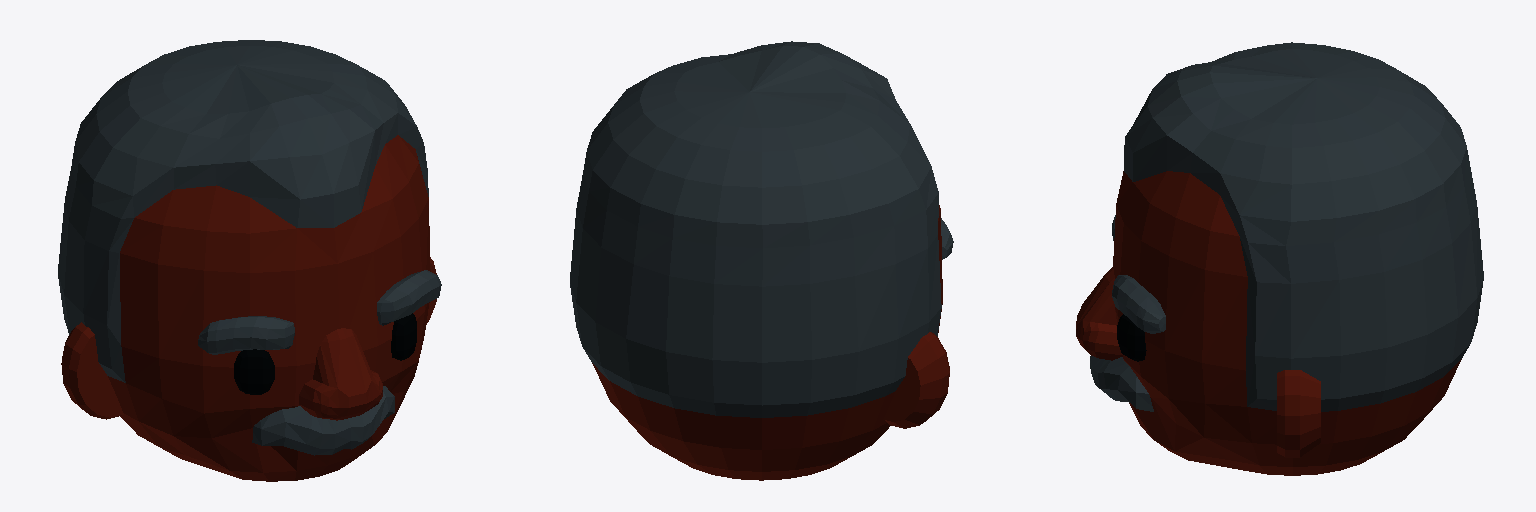
Rendered from character_policeman_headB.obj.
The picture shows the model from 3 angles: view 1: azimuth 30°, elevation 25°; view 2: azimuth 150°, elevation 25°; view 3: azimuth 270°, elevation 25°; orthographic projection.
Parts seen in each view (by area): view 1: character_policeman_headB_Cube.353; view 2: character_policeman_headB_Cube.353; view 3: character_policeman_headB_Cube.353.
Boxes of the visible parts, <box> form: character_policeman_headB_Cube.353: <box>58,40,441,481</box>; character_policeman_headB_Cube.353: <box>570,41,953,480</box>; character_policeman_headB_Cube.353: <box>1076,42,1483,475</box>.
Bounding box in the file's own units: 1.18 × 1.12 × 1.12.